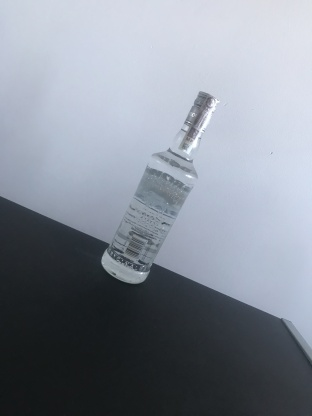nakretka: (182, 88, 221, 135)
